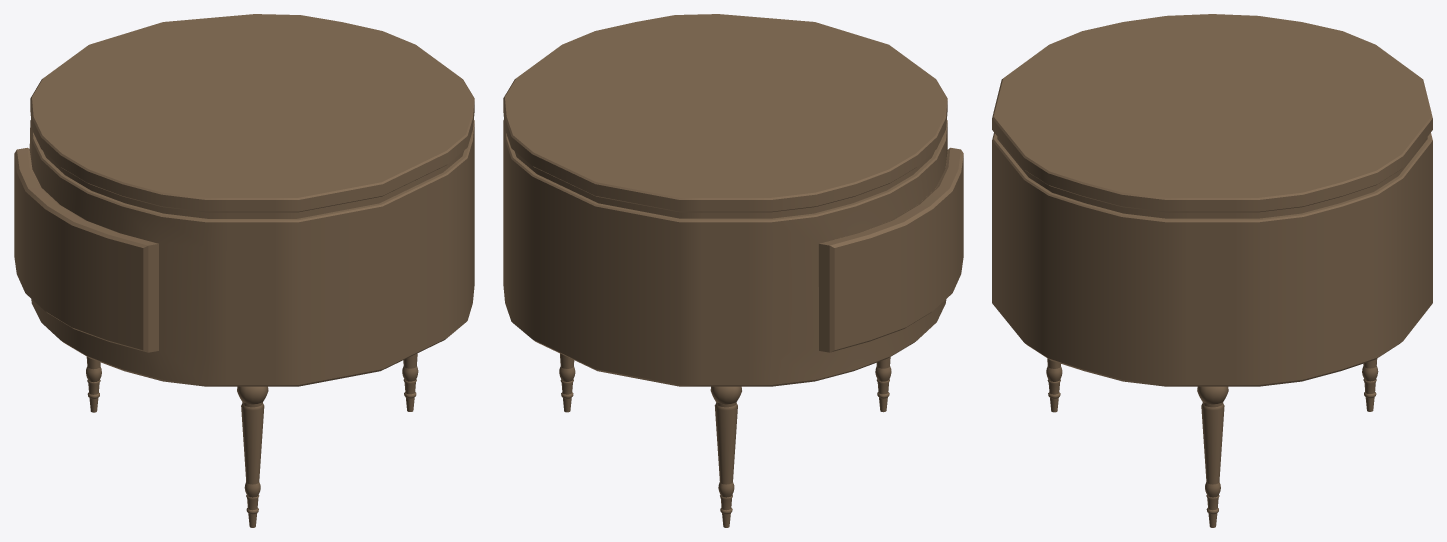
Rendered from endTable_hp.fbx.
The picture shows the model from 3 angles, left to right: view 1: azimuth 30°, elevation 25°; view 2: azimuth 150°, elevation 25°; view 3: azimuth 270°, elevation 25°; orthographic projection.
Parts seen in each view (by area): view 1: endtable_hp; view 2: endtable_hp; view 3: endtable_hp.
Part boxes in pixels (x1,y1,x2,y2): endtable_hp: (14,14,474,527); endtable_hp: (503,14,963,527); endtable_hp: (992,14,1432,527).
Bounding box in the file's own units: 0.7201 × 0.5968 × 0.696.
